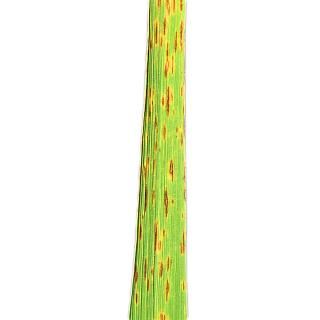Bercak-Cokelat-Sempit: (158, 257, 175, 303), (132, 254, 150, 294), (149, 15, 167, 54), (138, 152, 158, 184), (160, 82, 176, 120), (160, 187, 176, 221), (170, 20, 186, 54), (177, 228, 190, 261), (164, 153, 178, 183), (136, 216, 149, 248), (151, 111, 159, 149)
